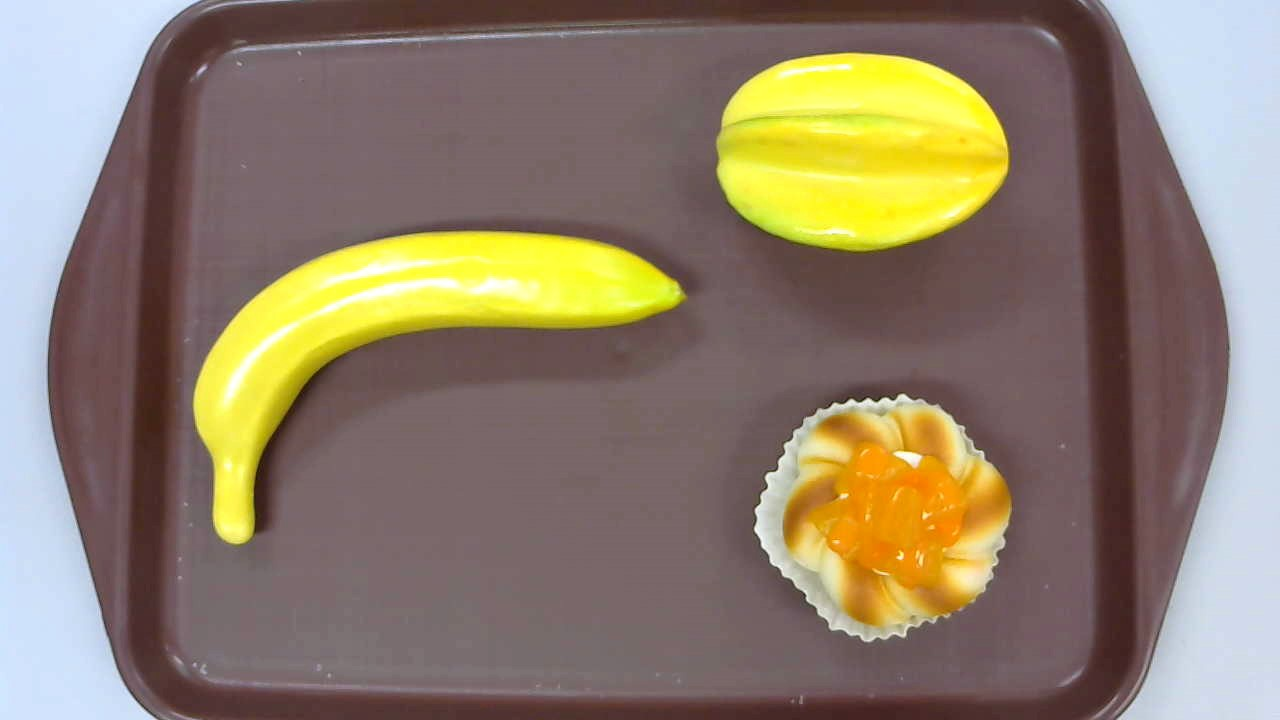banana: (193, 228, 691, 546)
mango tart: (753, 393, 1013, 643)
star fruit: (715, 53, 1010, 253)
